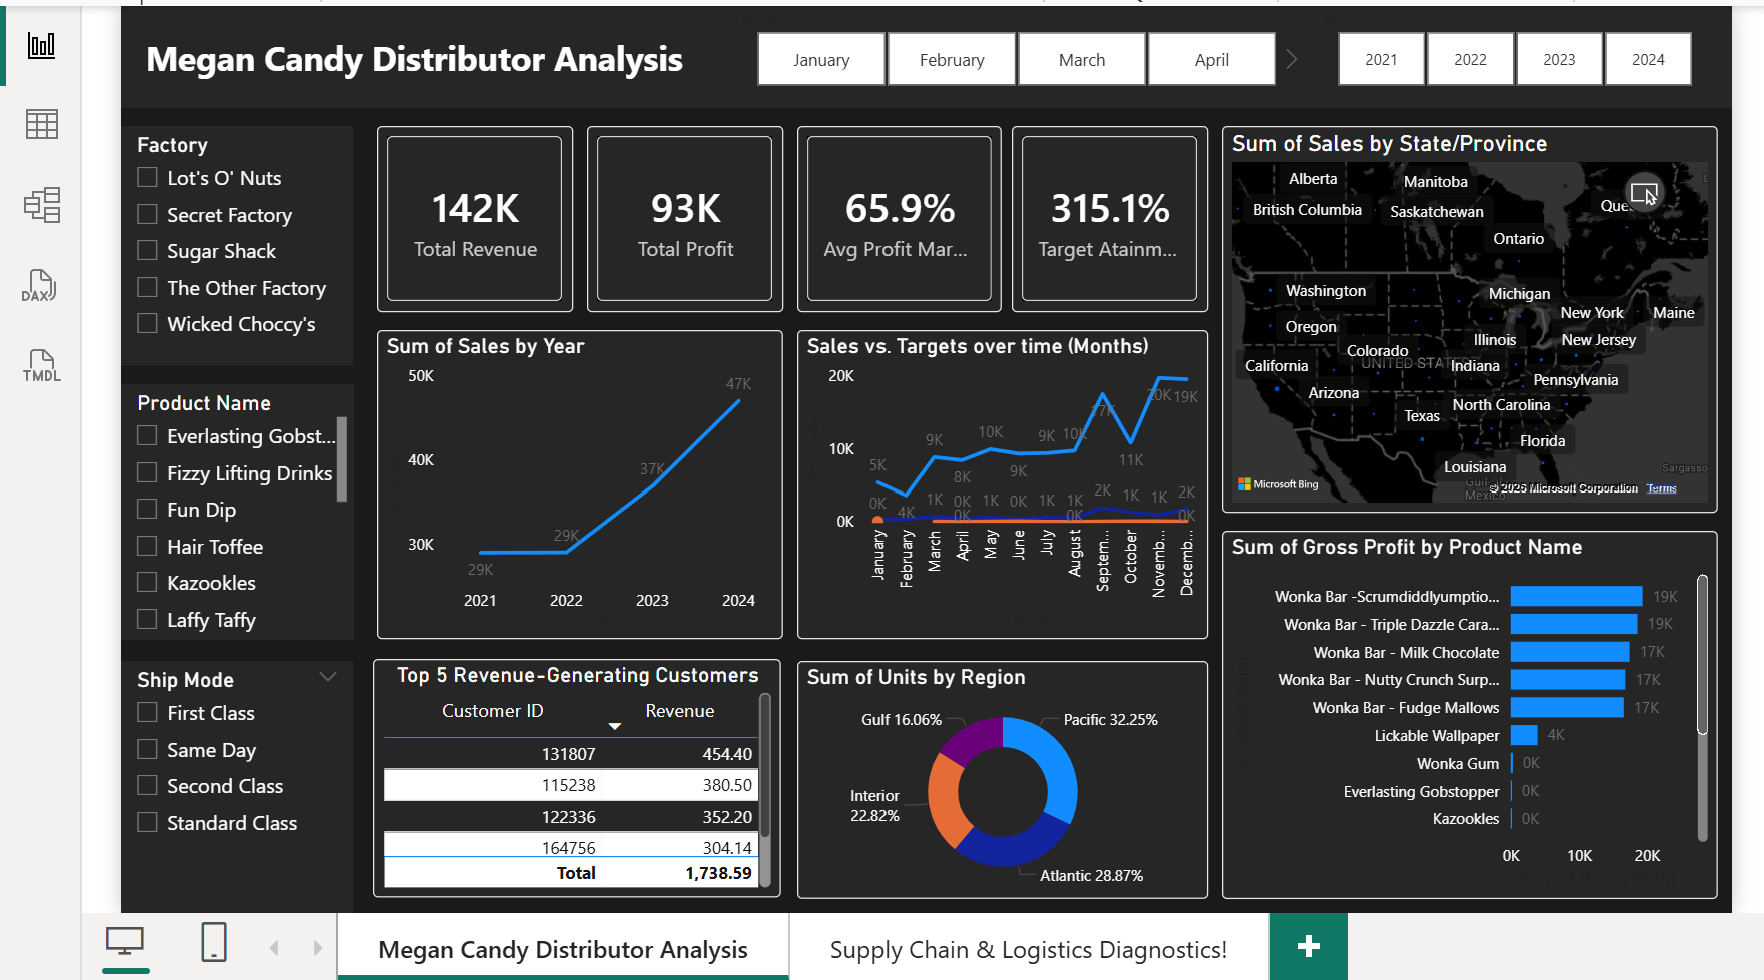

The page's visual inventory and layout, read from the dashboard file:
{"tool":"powerbi","page":{"name":"Megan Candy Distributor Analysis","canvas":[1280,720],"ordinal":0},"visuals":[{"type":"map","fields":{"Category":["Candy_Sales.State/Province"],"Size":["Sum(Candy_Sales.Sales)"]},"box":[874.2,95.4,394.2,306.8],"z":0},{"type":"clusteredBarChart","fields":{"Category":["Candy_Products.Product Name"],"Y":["Sum(Candy_Sales.Gross Profit)"]},"box":[874.2,416.4,394.2,292.5],"z":1000},{"type":"slicer","fields":{"Values":["Candy_Factories.Factory"]},"box":[0,95.4,184.4,190.7],"z":2000},{"type":"textbox","box":[0,0,1279.5,81.1],"z":3000},{"type":"cardVisual","fields":{"Data":["_daxMeasures.totalSales/Revenue"]},"box":[203.4,95.4,155.8,147.8],"z":4000},{"type":"cardVisual","fields":{"Data":["_daxMeasures.Total Profit"]},"box":[370.3,95.4,155.8,147.8],"z":5000},{"type":"cardVisual","fields":{"Data":["_daxMeasures.Avg Profit Margin %"]},"box":[537.2,95.4,162.1,147.8],"z":6000},{"type":"cardVisual","fields":{"Data":["_daxMeasures.Target Atainment %"]},"box":[707.3,95.4,155.8,147.8],"z":7000},{"type":"slicer","fields":{"Values":["Master_Calendar.Date.Variation.Date Hierarchy.Year"]},"box":[940.9,0,330.6,69.9],"z":8000},{"type":"lineChart","fields":{"Y":["Sum(Candy_Sales.Sales)"],"Category":["Master_Calendar.Date.Variation.Date Hierarchy.Year"]},"box":[203.4,257.5,322.6,244.8],"z":9000},{"type":"lineChart","title":"Sales vs. Targets over time (Months)","fields":{"Y":["Sum(Candy_Sales.Sales)"],"Series":["Candy_Targets.Division"],"Category":["Master_Calendar.Date.Variation.Date Hierarchy.Month"]},"box":[537.2,257.5,325.8,244.8],"z":10000},{"type":"slicer","fields":{"Values":["Master_Calendar.Date.Variation.Date Hierarchy.Month"]},"box":[480,0,460.9,69.9],"z":11000},{"type":"slicer","fields":{"Values":["Candy_Products.Product Name"]},"box":[0,300.4,184.4,201.9],"z":12000},{"type":"slicer","fields":{"Values":["Candy_Sales.Ship Mode"]},"box":[0,519.7,184.4,200.3],"z":13000},{"type":"donutChart","fields":{"Category":["Candy_Sales.Region"],"Y":["Sum(Candy_Sales.Units)"]},"box":[537.2,519.7,325.8,189.1],"z":14000},{"type":"tableEx","title":"Top 5 Revenue-Generating Customers","fields":{"Values":["Candy_Sales.Customer ID","_daxMeasures.totalSales/Revenue"]},"box":[200.7,518.8,323.8,189.3],"z":15000}]}

Visuals, with their boxes on the page's 1280x720 design canvas (x1, y1, x2, y2). These are canvas units, not pixel positions in the 1764x980 screenshot, which may show the page scaled, cropped or inside an application window:
map - Candy_Sales.State/Province x Sum(Candy_Sales.Sales): pyautogui.locateOnScreen(874, 95, 1268, 402)
clusteredBarChart - Candy_Products.Product Name x Sum(Candy_Sales.Gross Profit): pyautogui.locateOnScreen(874, 416, 1268, 709)
slicer - Candy_Factories.Factory: pyautogui.locateOnScreen(0, 95, 184, 286)
textbox: pyautogui.locateOnScreen(0, 0, 1280, 81)
cardVisual - _daxMeasures.totalSales/Revenue: pyautogui.locateOnScreen(203, 95, 359, 243)
cardVisual - _daxMeasures.Total Profit: pyautogui.locateOnScreen(370, 95, 526, 243)
cardVisual - _daxMeasures.Avg Profit Margin %: pyautogui.locateOnScreen(537, 95, 699, 243)
cardVisual - _daxMeasures.Target Atainment %: pyautogui.locateOnScreen(707, 95, 863, 243)
slicer - Master_Calendar.Date.Variation.Date Hierarchy.Year: pyautogui.locateOnScreen(941, 0, 1272, 70)
lineChart - Sum(Candy_Sales.Sales) x Master_Calendar.Date.Variation.Date Hierarchy.Year: pyautogui.locateOnScreen(203, 258, 526, 502)
"Sales vs. Targets over time (Months)" lineChart: pyautogui.locateOnScreen(537, 258, 863, 502)
slicer - Master_Calendar.Date.Variation.Date Hierarchy.Month: pyautogui.locateOnScreen(480, 0, 941, 70)
slicer - Candy_Products.Product Name: pyautogui.locateOnScreen(0, 300, 184, 502)
slicer - Candy_Sales.Ship Mode: pyautogui.locateOnScreen(0, 520, 184, 720)
donutChart - Candy_Sales.Region x Sum(Candy_Sales.Units): pyautogui.locateOnScreen(537, 520, 863, 709)
"Top 5 Revenue-Generating Customers" tableEx: pyautogui.locateOnScreen(201, 519, 524, 708)
